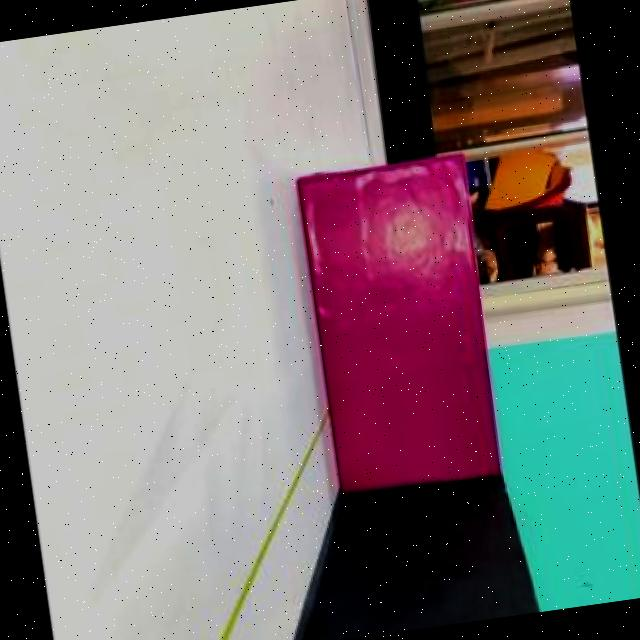xparking: (295, 154, 507, 500)
